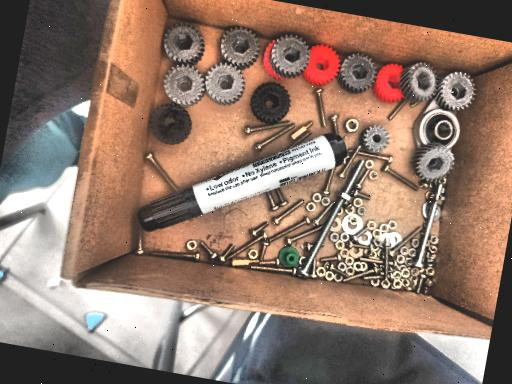marcador negro: (138, 133, 347, 231)
